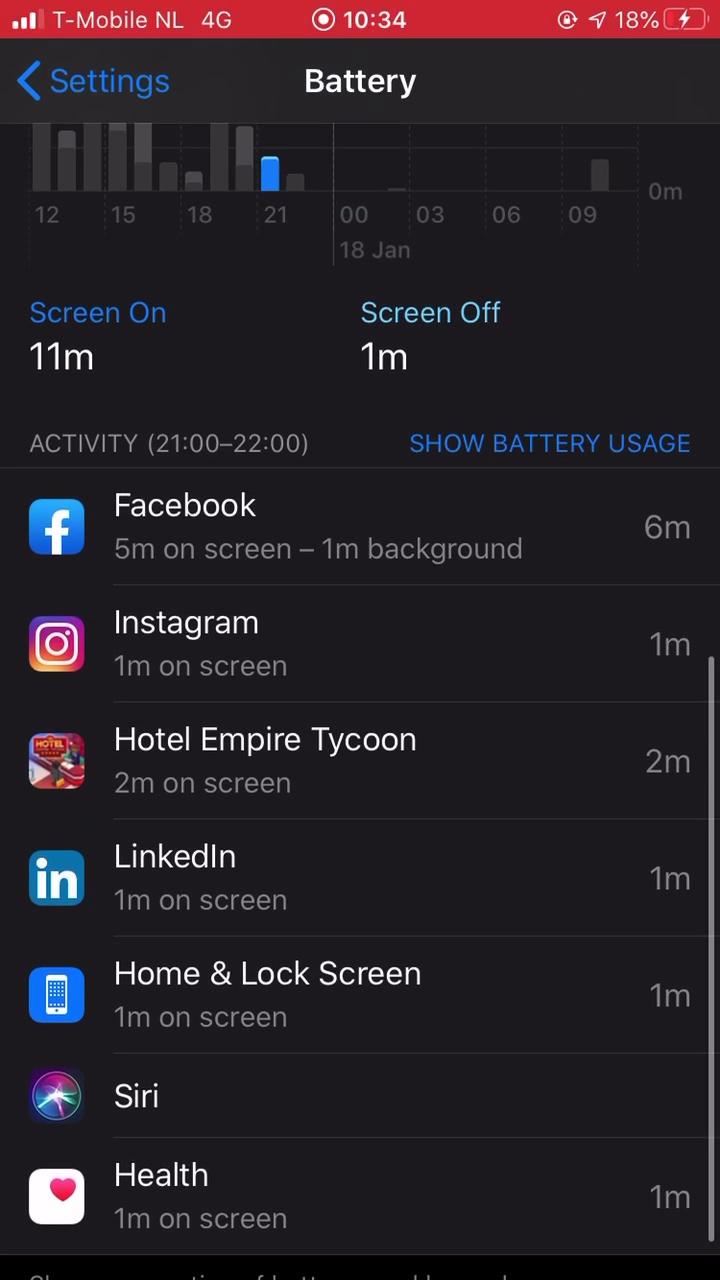activity: (11, 420, 322, 458)
app: (5, 486, 701, 572), (7, 603, 703, 689), (3, 716, 699, 802), (3, 836, 699, 922), (3, 954, 699, 1040), (11, 1154, 707, 1240)
